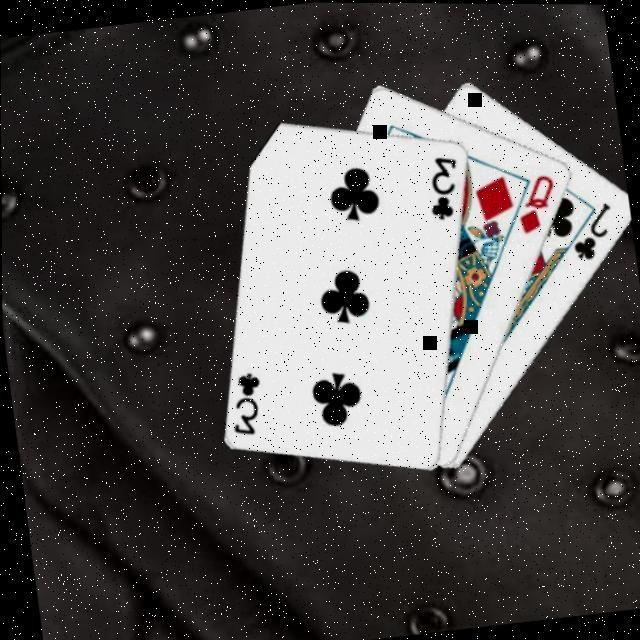3C: (220, 368, 266, 440), (420, 152, 464, 224)
JC: (563, 198, 618, 265)
QD: (509, 169, 560, 238)
